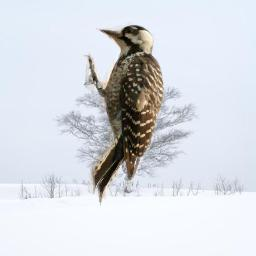Woodpecker: (82, 20, 165, 206)
